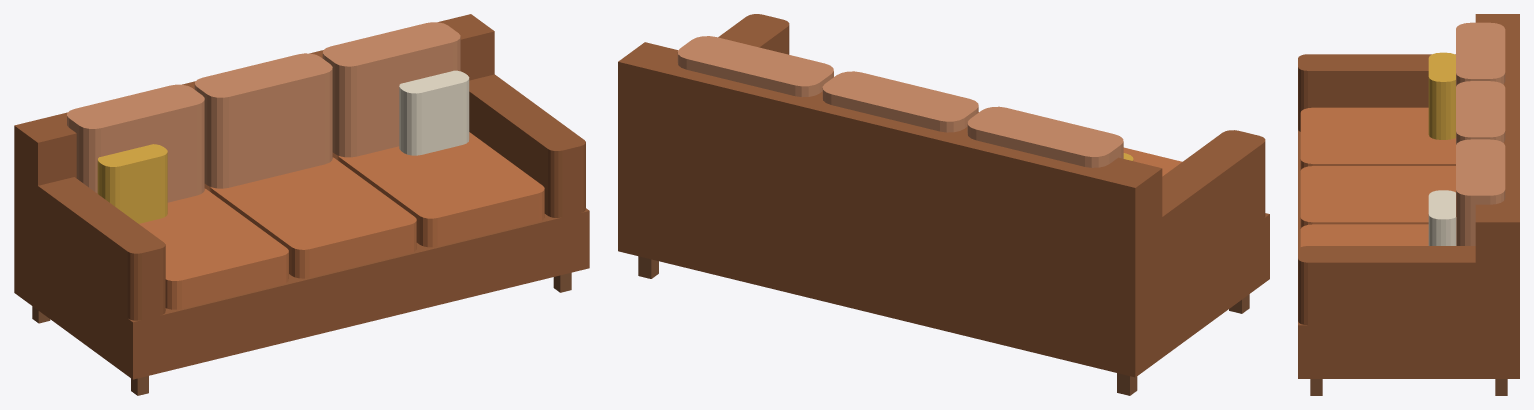
The model's file is sofa.glb.
3 views of the same model, side by side, from view 1: azimuth 30°, elevation 25°; view 2: azimuth 150°, elevation 25°; view 3: azimuth 270°, elevation 25° (orthographic). The views are drawn at different scales.
Visible parts, largest first — view 1: sofa_Body; view 2: sofa_Body; view 3: sofa_Body.
Part boxes in pixels (left/top/right/bottom): sofa_Body: left=14, top=14, right=589, bottom=395; sofa_Body: left=618, top=14, right=1269, bottom=395; sofa_Body: left=1298, top=14, right=1519, bottom=395.
Size of the model in its own units: 2 by 0.84 by 0.9.
